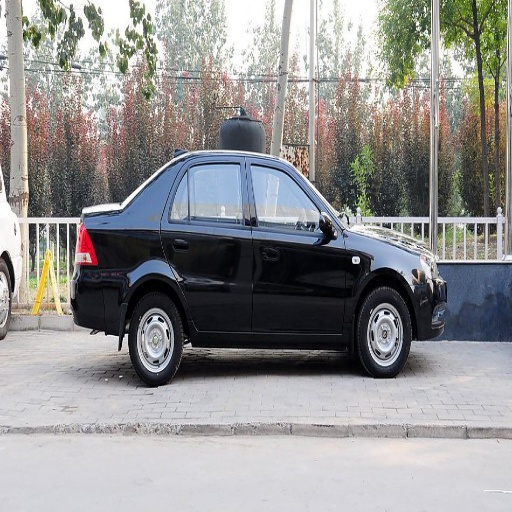back_right_door: (163, 155, 251, 335)
